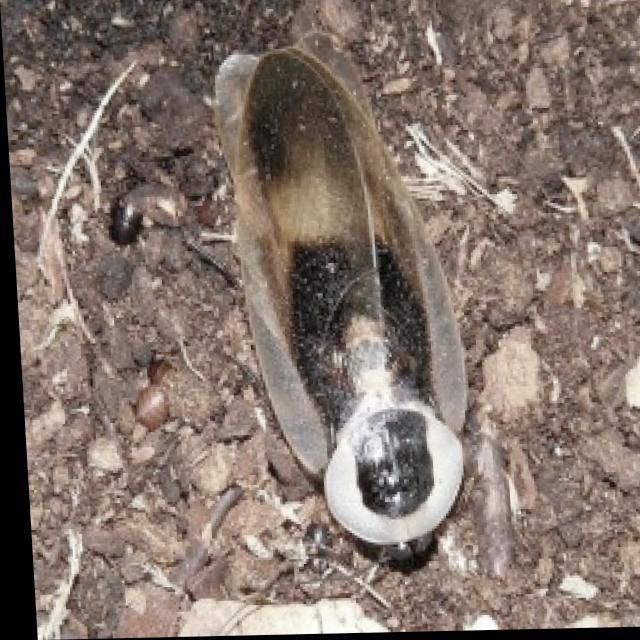cockroach: (204, 29, 523, 576)
